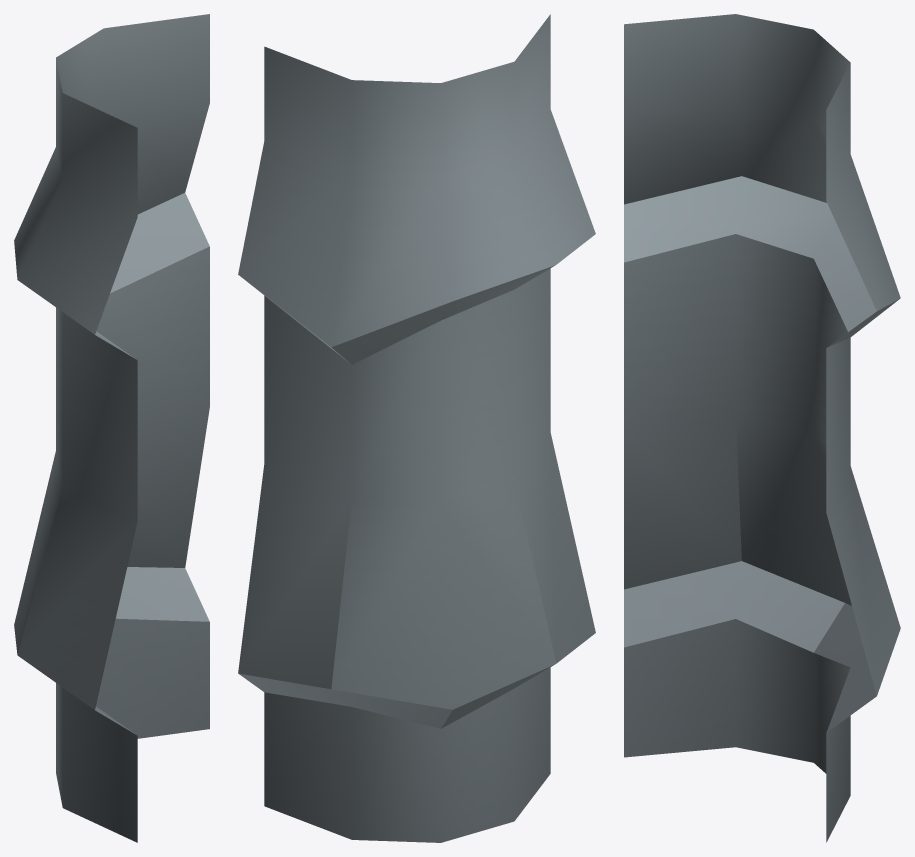
File: Hill_Cliff_Tall_I_InnerCorner_Color1.gltf
The picture shows the model from 3 angles, left to right: view 1: azimuth 30°, elevation 25°; view 2: azimuth 150°, elevation 25°; view 3: azimuth 270°, elevation 25°; orthographic projection. The views are drawn at different scales.
Visible parts, largest first — view 1: Hill_Cliff_Tall_I_InnerCorner_Color1; view 2: Hill_Cliff_Tall_I_InnerCorner_Color1; view 3: Hill_Cliff_Tall_I_InnerCorner_Color1.
Boxes of the visible parts, <box> form: Hill_Cliff_Tall_I_InnerCorner_Color1: <box>14,14,209,842</box>; Hill_Cliff_Tall_I_InnerCorner_Color1: <box>238,14,595,842</box>; Hill_Cliff_Tall_I_InnerCorner_Color1: <box>624,14,900,842</box>.
Size of the model in its own units: 1.37 by 4 by 1.37.
Materials: 1 (1 with a texture image).
